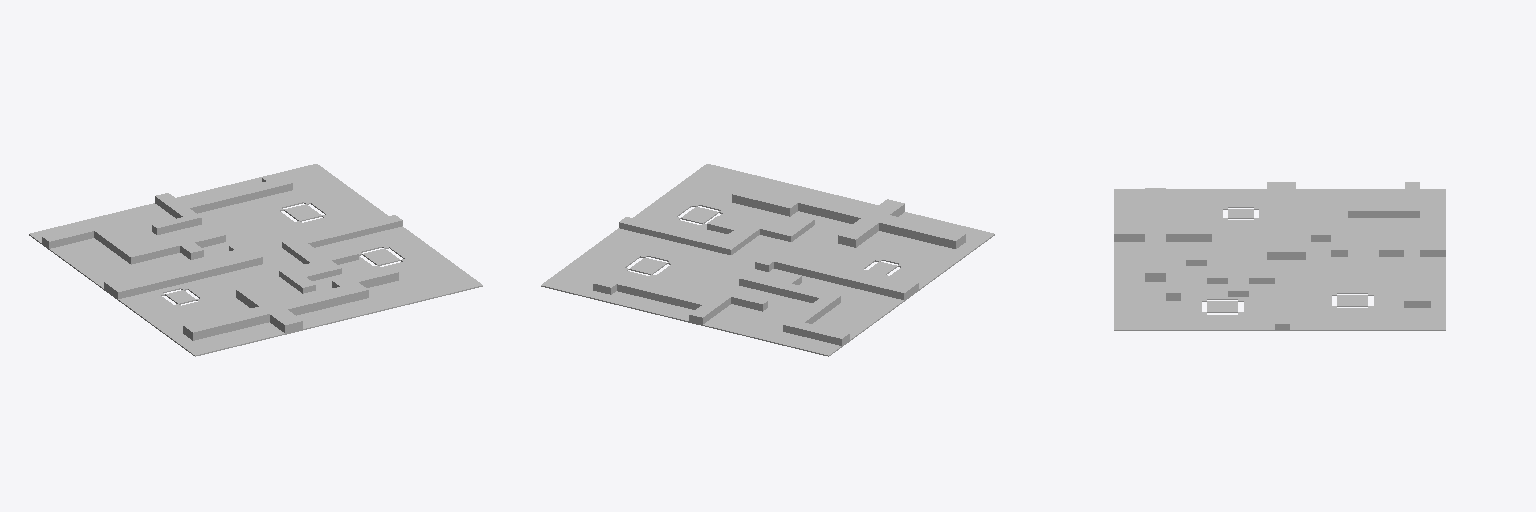
The model's file is niveau 7.obj.
The picture shows the model from 3 angles: view 1: azimuth 30°, elevation 25°; view 2: azimuth 150°, elevation 25°; view 3: azimuth 270°, elevation 25°; orthographic projection.
Parts seen in each view (by area): view 1: Niveau 7; view 2: Niveau 7; view 3: Niveau 7.
Boxes of the visible parts, <box> form: Niveau 7: <box>29,164,482,356</box>; Niveau 7: <box>541,164,994,356</box>; Niveau 7: <box>1114,182,1445,330</box>.
Bounding box in the file's own units: 25.6 × 0.8 × 25.6.